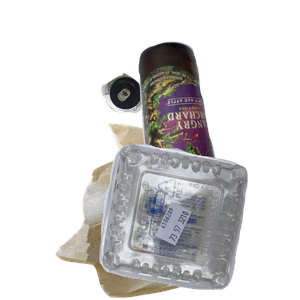glass: (136, 39, 300, 219)
metal: (99, 70, 236, 176)
plastic: (97, 141, 300, 300)
trash: (53, 121, 239, 300)
